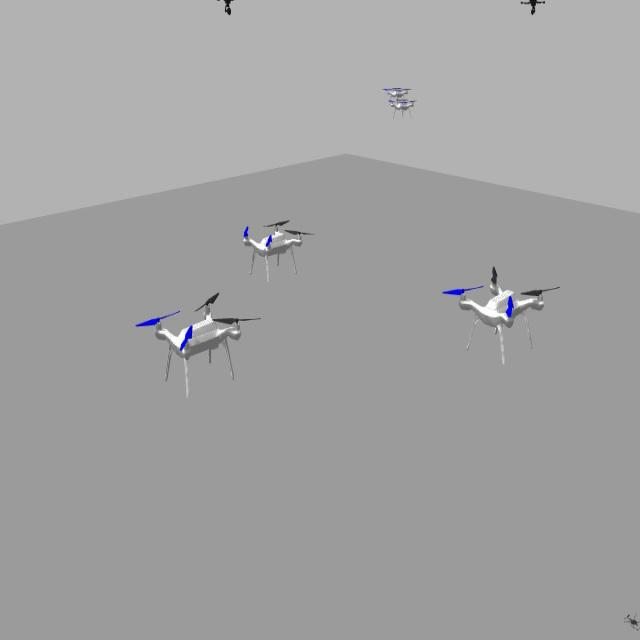Drone: (133, 278, 262, 396)
